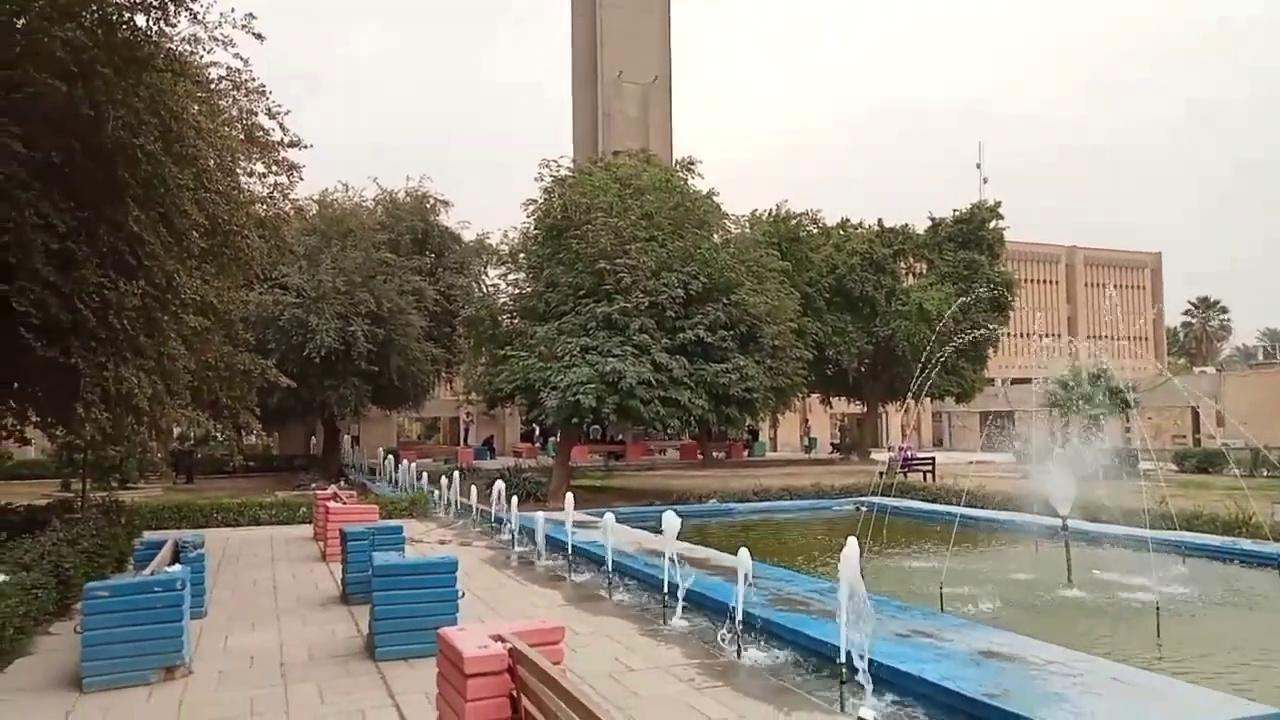fountain: (339, 283, 1278, 717), (834, 533, 876, 697)
person: (168, 418, 197, 485), (460, 409, 473, 446), (481, 433, 496, 459), (802, 417, 811, 454), (531, 421, 541, 448), (309, 433, 316, 455)
tree: (0, 0, 313, 500), (469, 146, 809, 505), (238, 173, 489, 487), (741, 196, 1019, 461), (888, 197, 1018, 452), (1040, 356, 1141, 471), (1172, 293, 1233, 369), (1254, 325, 1279, 360)
